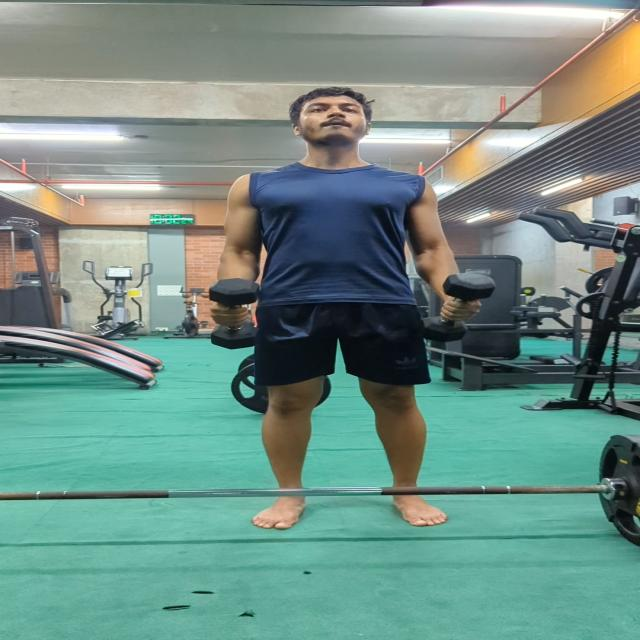Normal_DumbbellBicepCurls: (184, 80, 510, 533)
